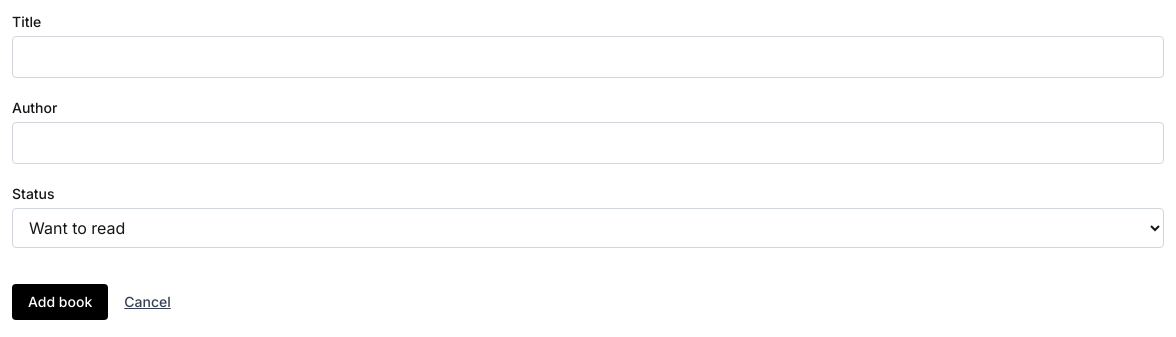
Scenario: CreateBookForm › shows "Adding…" and disables the button while submitting
Type "Dune" into the field labelled "Title" at (588, 57), box [12,36,1164,78]
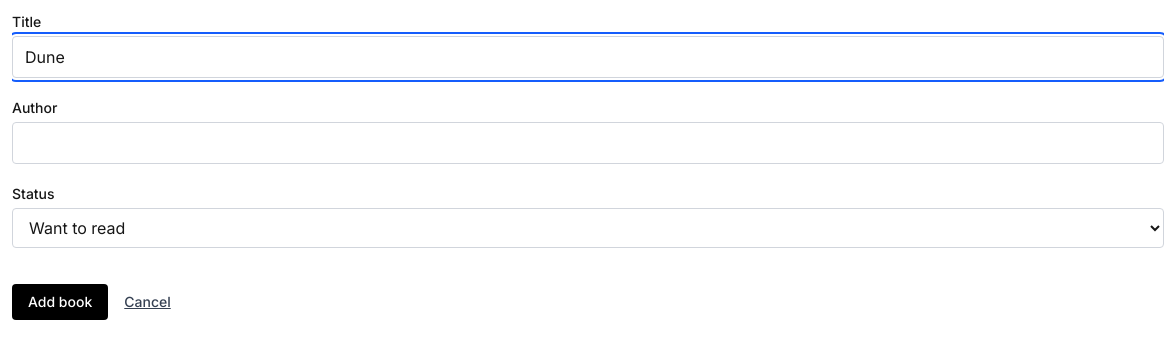
Type "Frank Herbert" into the field labelled "Author" at (588, 143), box [12,122,1164,164]
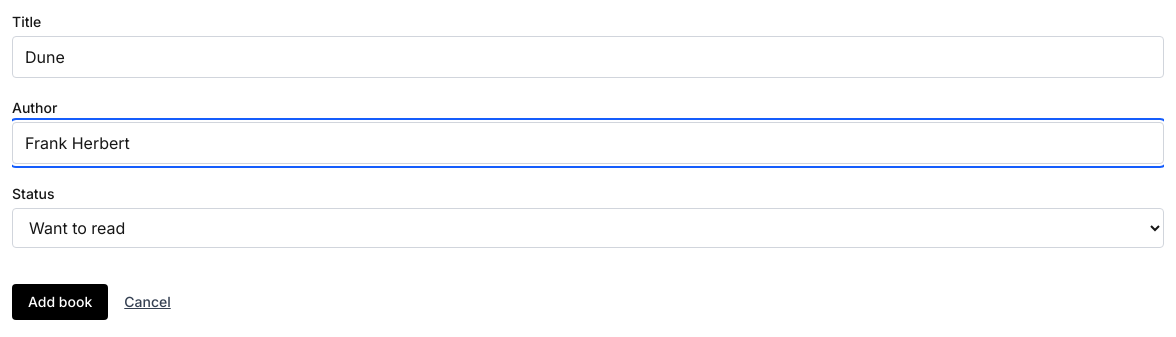
Click the button "Add book" at (60, 302), box [12,284,108,320]
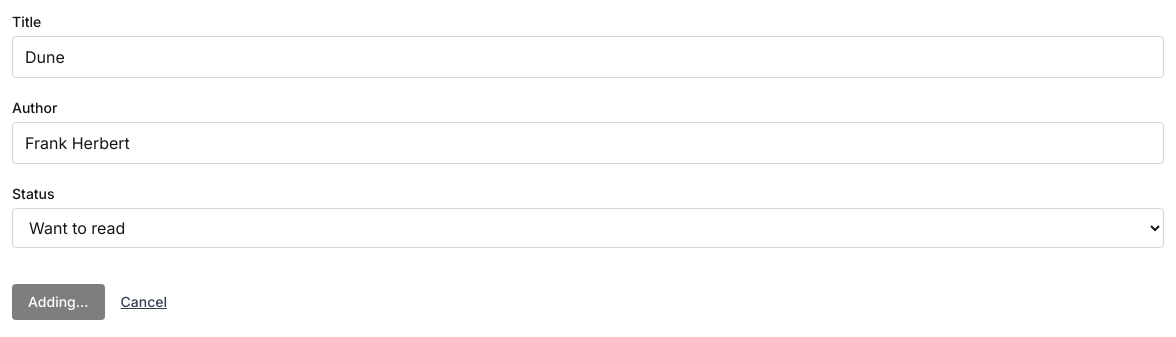
Expected: the button "Adding…" is disabled, [12,284,104,320]
